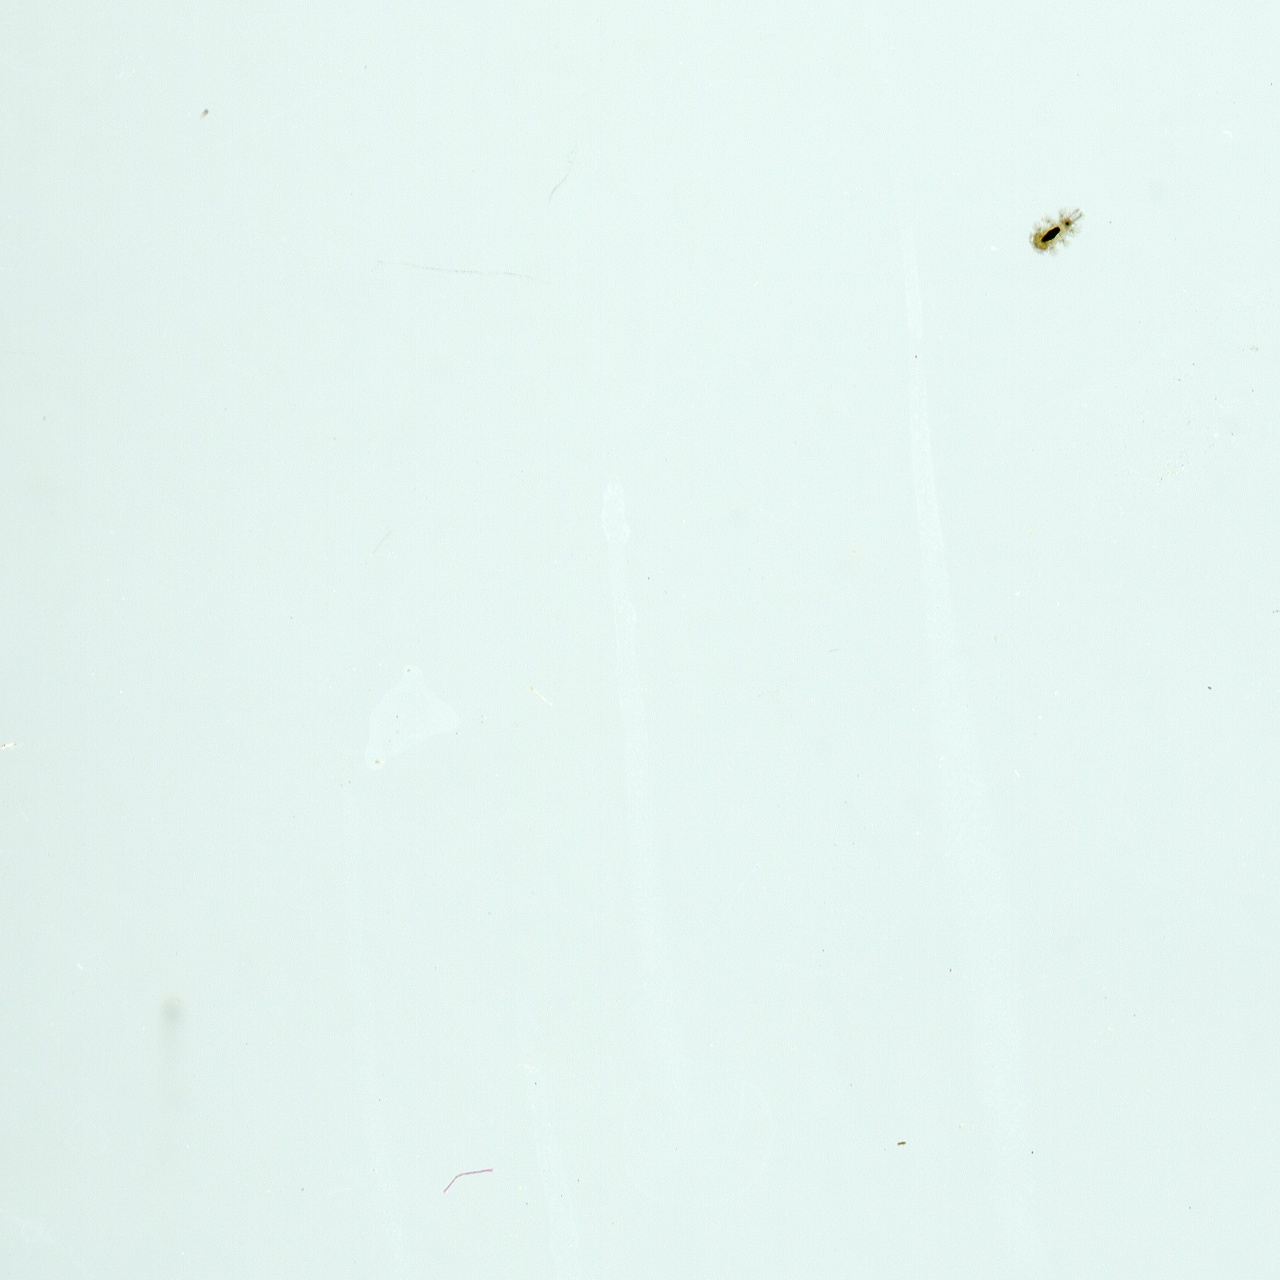arthropod: (1026, 202, 1085, 258)
